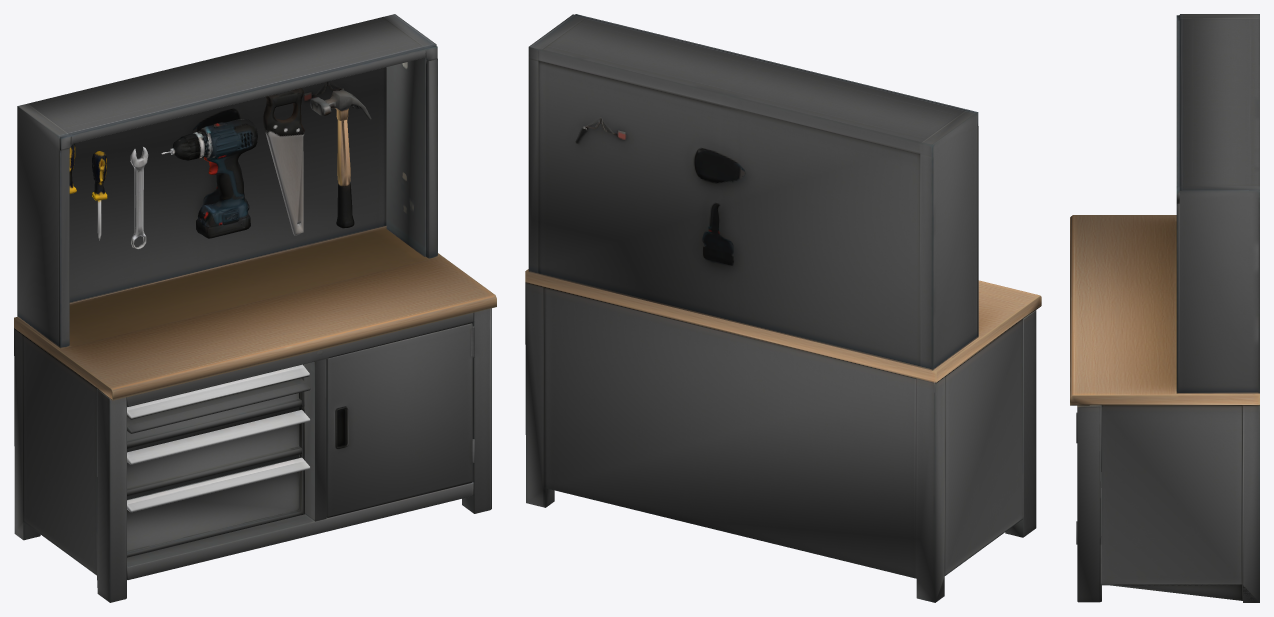
File: tool-cabinet.glb
The picture shows the model from 3 angles, left to right: view 1: azimuth 30°, elevation 25°; view 2: azimuth 150°, elevation 25°; view 3: azimuth 270°, elevation 25°; orthographic projection. The views are drawn at different scales.
Parts seen in each view (by area): view 1: Tool_Cabinet_Edit; view 2: Tool_Cabinet_Edit; view 3: Tool_Cabinet_Edit.
Boxes of the visible parts, x1,y1,x2,y2 form: Tool_Cabinet_Edit: (14, 14, 496, 602); Tool_Cabinet_Edit: (525, 14, 1041, 602); Tool_Cabinet_Edit: (1070, 14, 1259, 602).
Bounding box in the file's own units: 0.9394 × 0.998 × 0.418.
1 material, 1 textured.
